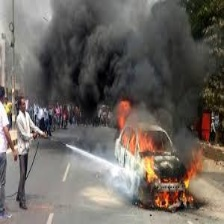fire: (110, 103, 202, 210)
smoke: (40, 1, 203, 101)
